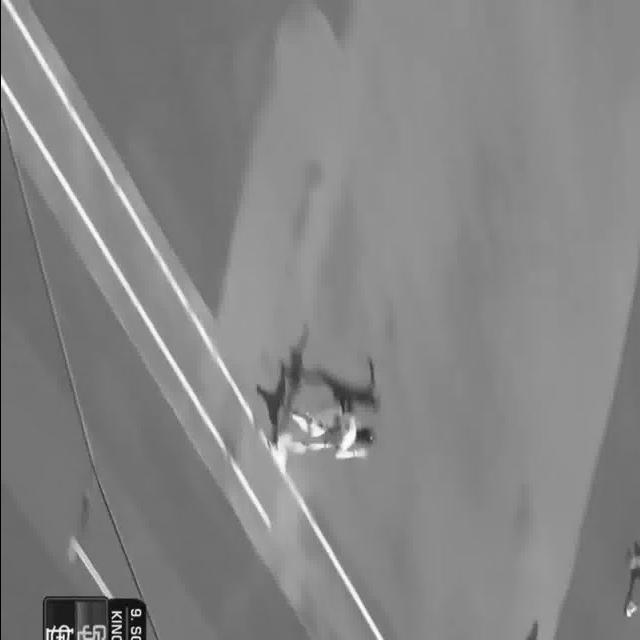base: (273, 440, 288, 470)
shoe: (288, 412, 310, 422), (274, 444, 286, 452)
